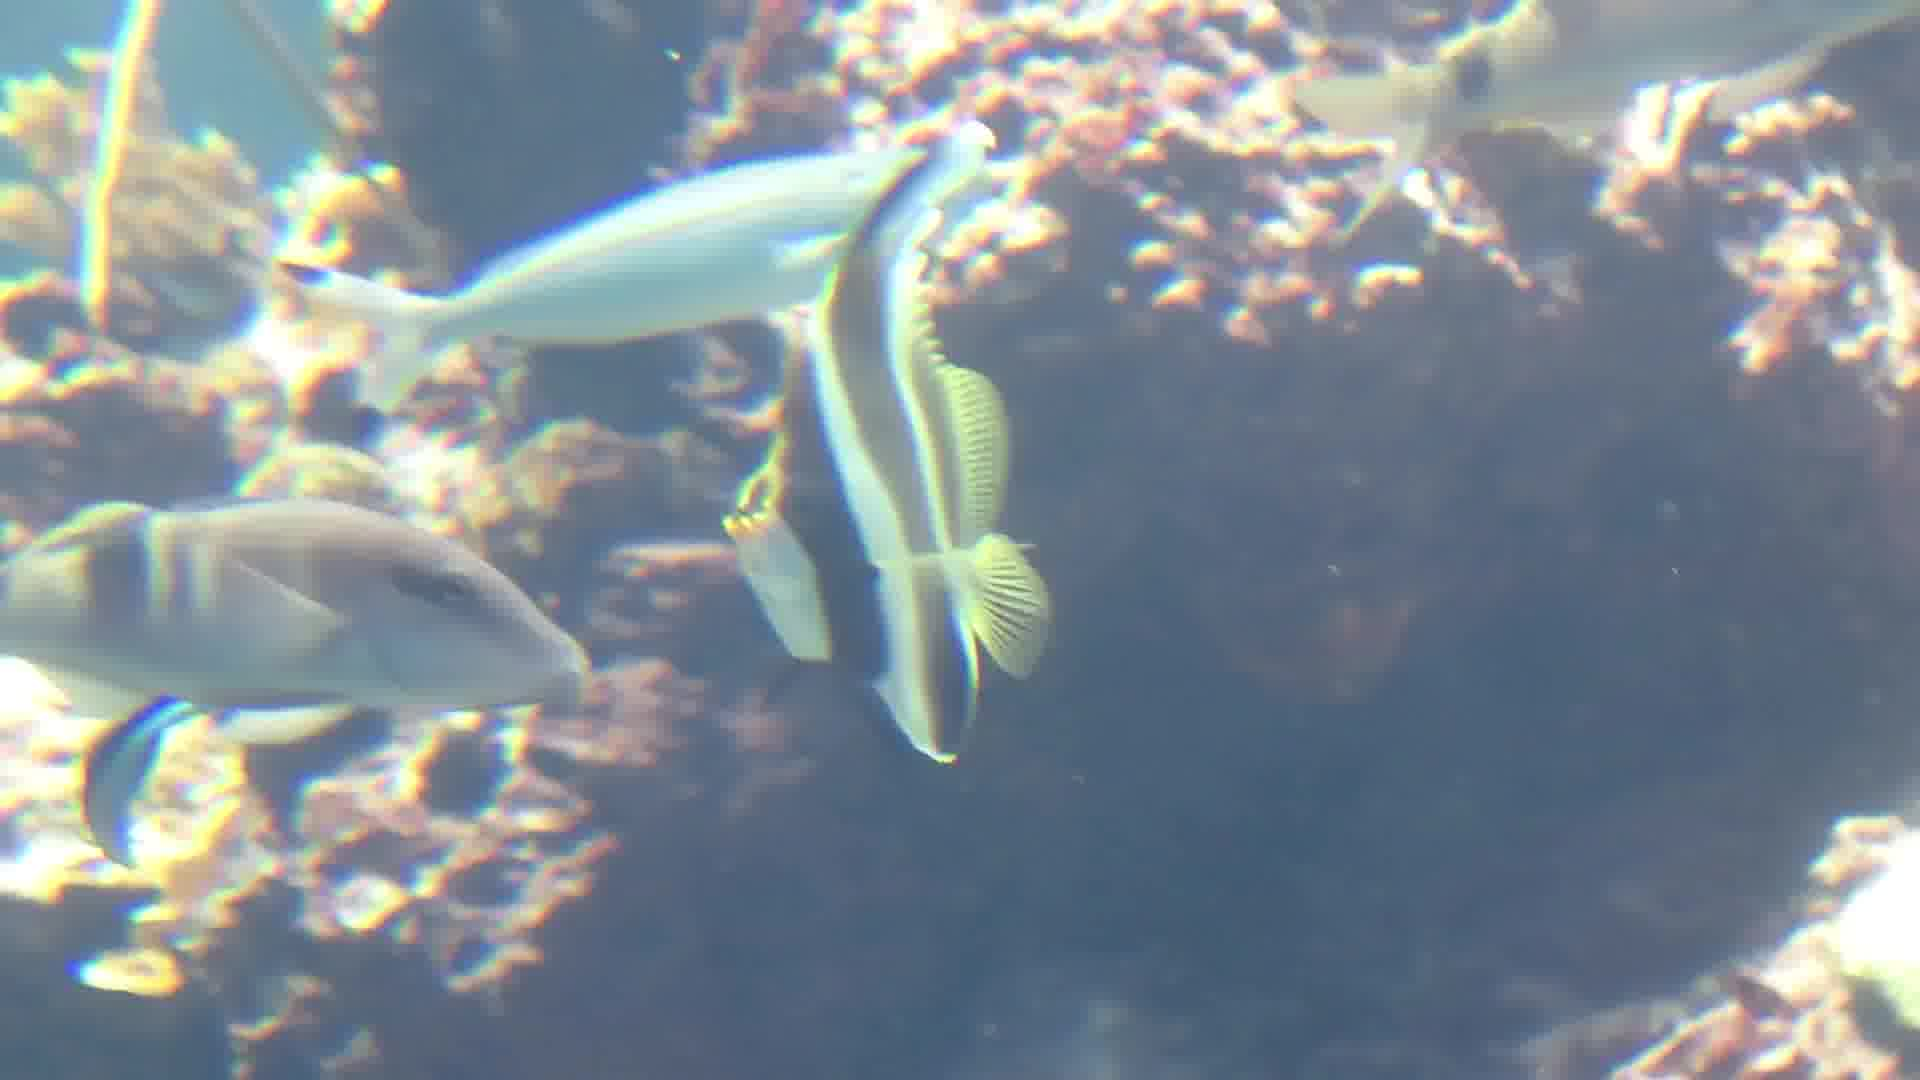Heniochus chrysostomus: (692, 131, 1104, 769)
